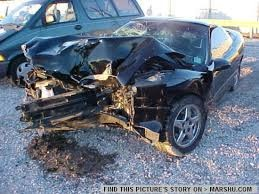Broken-glass: (116, 21, 172, 39)
Smashed: (21, 37, 187, 133)
